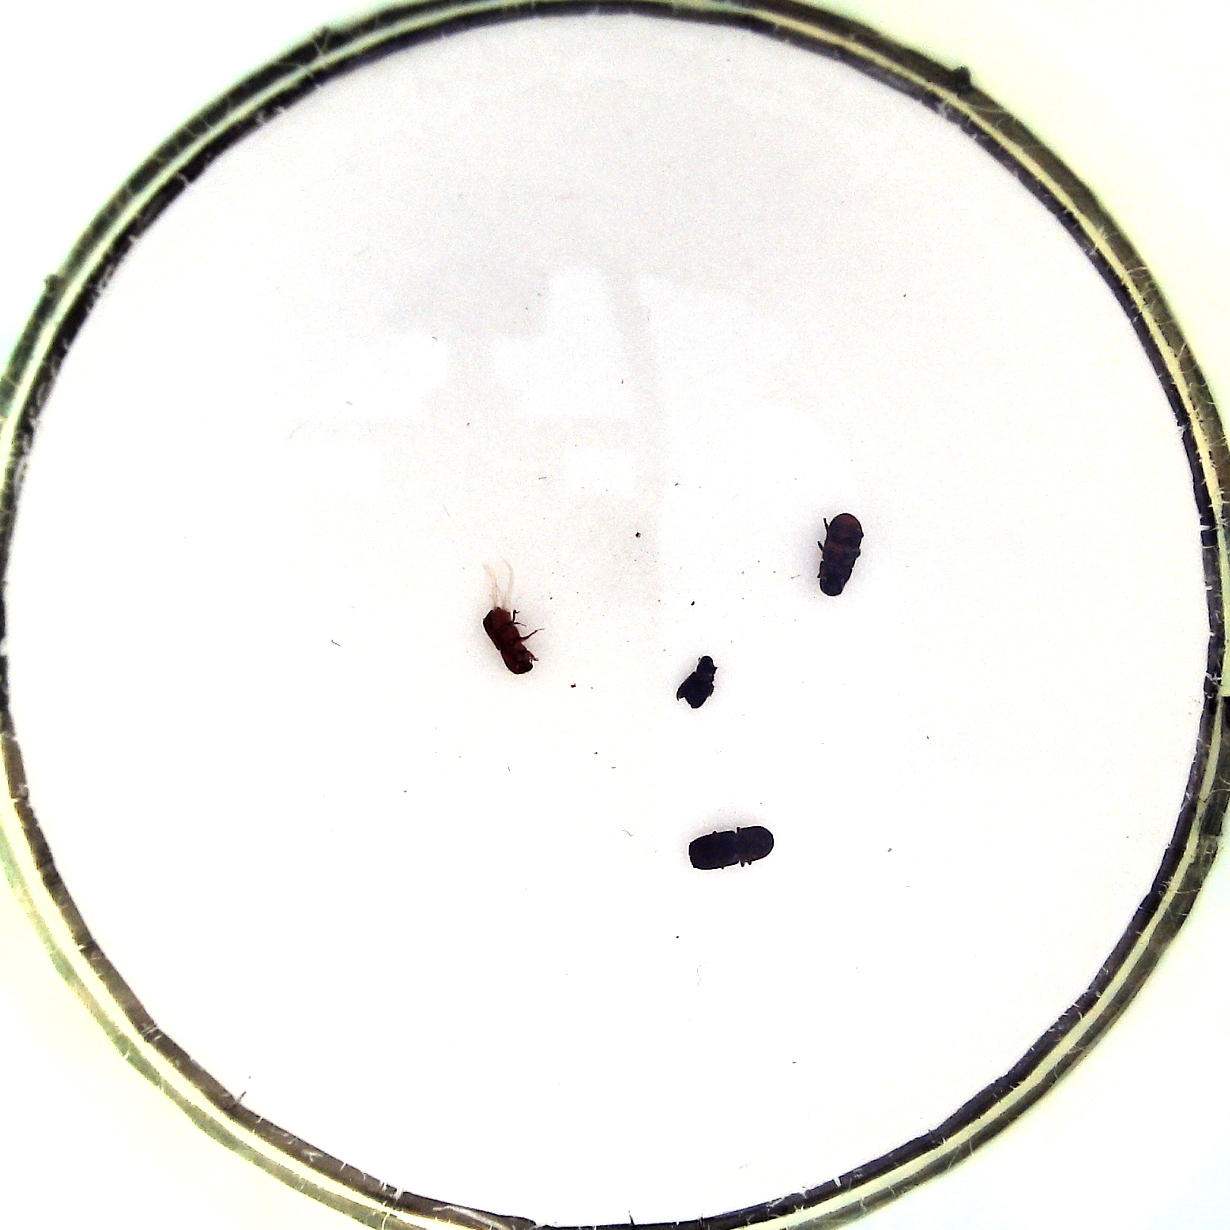Linnaeus: (681, 821, 777, 875)
acuminatus: (479, 599, 546, 678)
armandi: (812, 511, 870, 598)
coleoptera: (677, 650, 720, 711)
